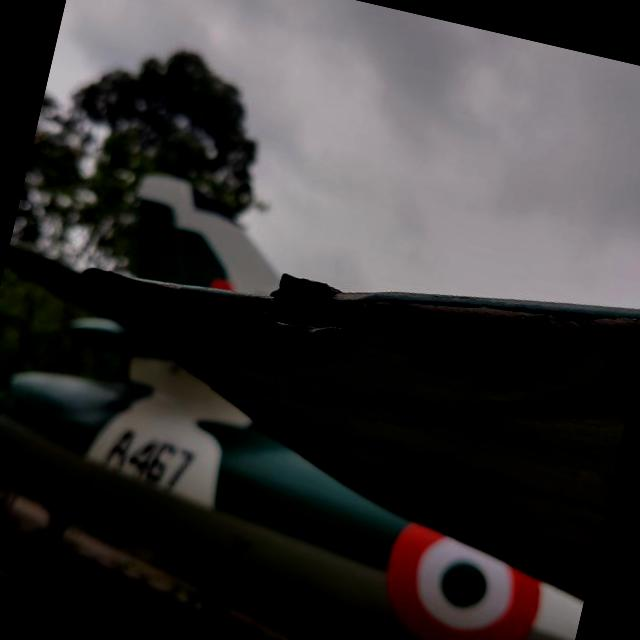crack: (218, 254, 405, 366)
